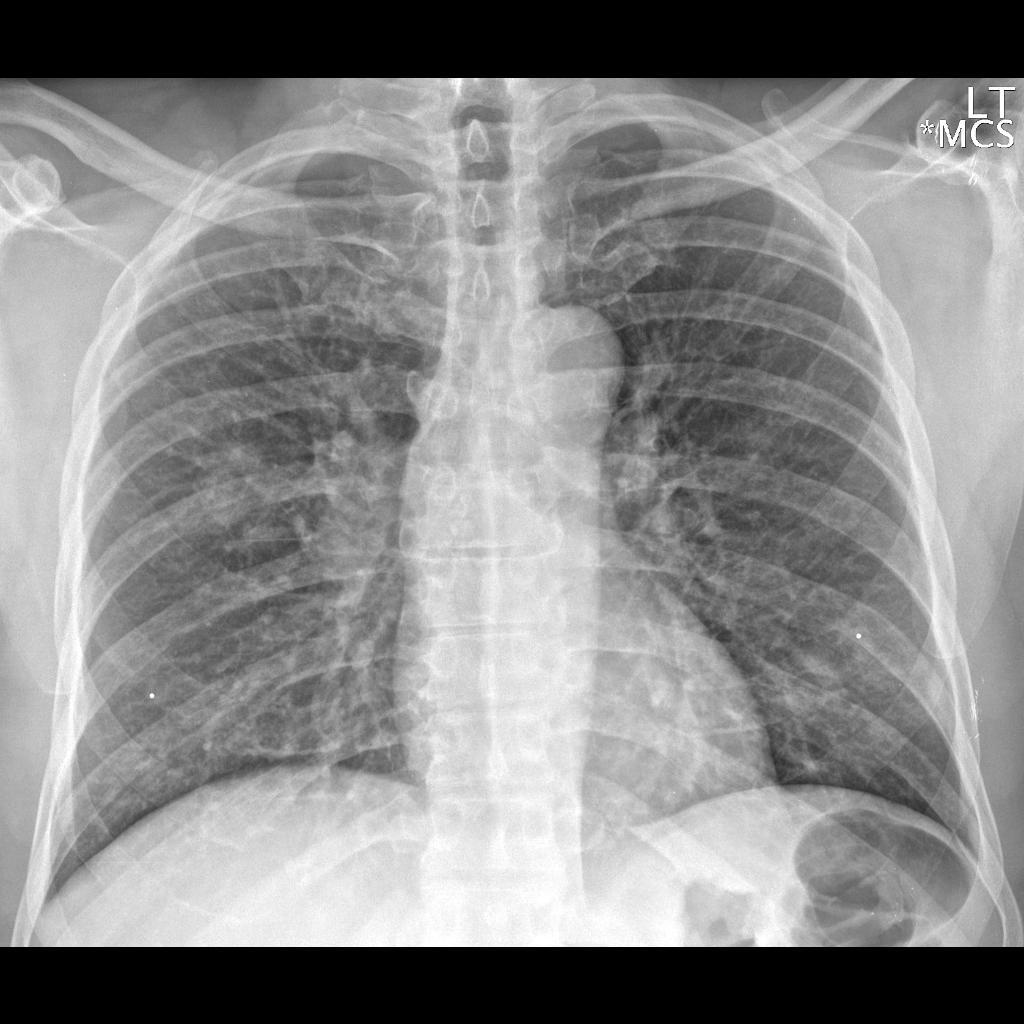Nodule: (184, 431, 283, 537)
